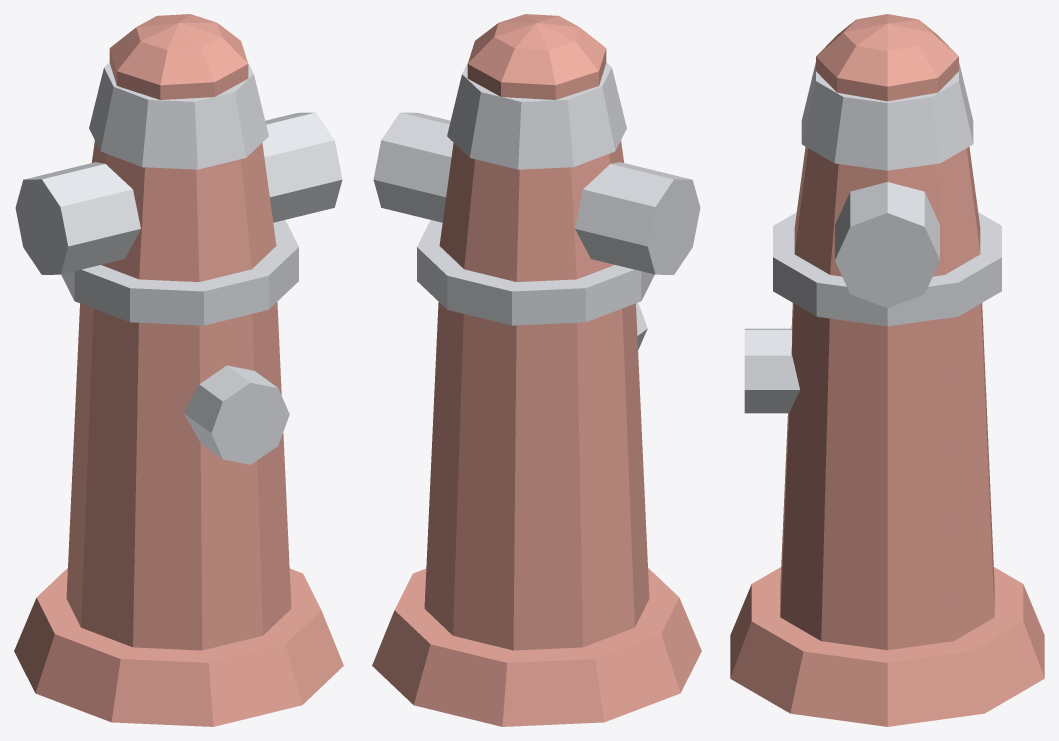
The model's file is Fire_Hydrant.glb.
The picture shows the model from 3 angles, left to right: view 1: azimuth 30°, elevation 25°; view 2: azimuth 150°, elevation 25°; view 3: azimuth 270°, elevation 25°; orthographic projection.
Parts seen in each view (by area): view 1: fire-hydrant-coral, fire-hydrant-chrome; view 2: fire-hydrant-coral, fire-hydrant-chrome; view 3: fire-hydrant-coral, fire-hydrant-chrome.
Part boxes in pixels (x1,y1,x2,y2): fire-hydrant-coral: (14, 14, 343, 726); fire-hydrant-chrome: (15, 62, 342, 464); fire-hydrant-coral: (372, 14, 701, 726); fire-hydrant-chrome: (373, 62, 700, 350); fire-hydrant-coral: (730, 14, 1044, 726); fire-hydrant-chrome: (744, 62, 1001, 413).
Size of the model in its own units: 0.44 by 0.93 by 0.4185.
